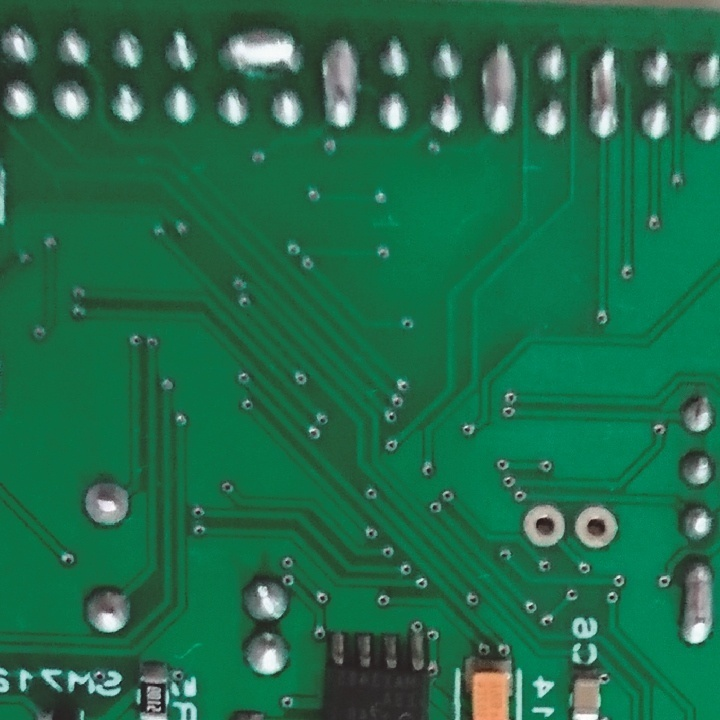F: (81, 476, 139, 530), (572, 502, 621, 552), (519, 500, 567, 550)
P: (474, 38, 520, 138), (215, 28, 305, 78), (582, 42, 622, 144), (319, 32, 359, 132), (676, 558, 716, 649)
